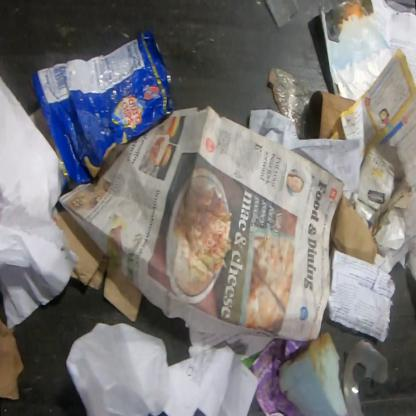cardboard: (55, 208, 144, 323), (277, 329, 351, 415), (355, 142, 413, 250), (330, 193, 378, 266), (318, 90, 356, 140)
rigid_plastic: (342, 338, 390, 415), (265, 0, 300, 29)
soft_plastic: (29, 29, 179, 184), (268, 66, 312, 140)
